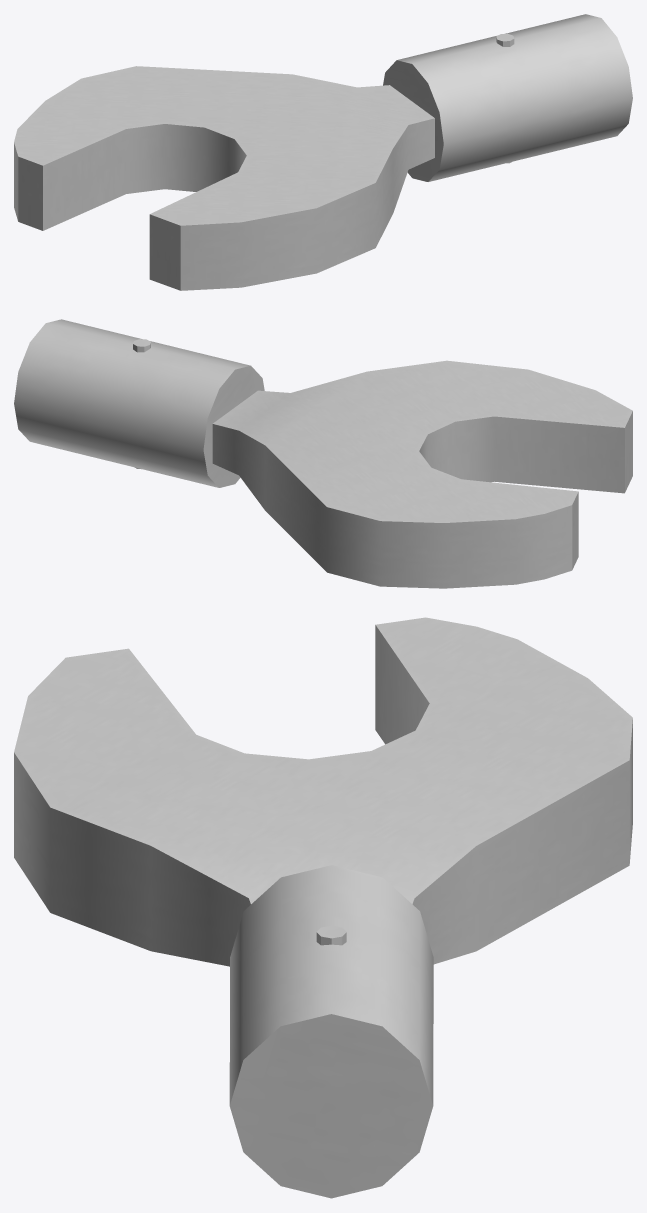
The model's file is tool_torque_wrench_nozzle_01.glb.
3 renders of one model, top to bottom at view 1: azimuth 30°, elevation 25°; view 2: azimuth 150°, elevation 25°; view 3: azimuth 270°, elevation 25°, orthographic. The views are drawn at different scales.
Parts seen in each view (by area): view 1: tool_torque_wrench_nozzle_01; view 2: tool_torque_wrench_nozzle_01; view 3: tool_torque_wrench_nozzle_01.
Part boxes in pixels (bbox=[...]): tool_torque_wrench_nozzle_01: bbox=[14, 14, 632, 290]; tool_torque_wrench_nozzle_01: bbox=[14, 319, 632, 588]; tool_torque_wrench_nozzle_01: bbox=[14, 617, 632, 1198].
Bounding box in the file's own units: 0.0639 × 0.0135 × 0.0383.
1 material, 1 textured.
